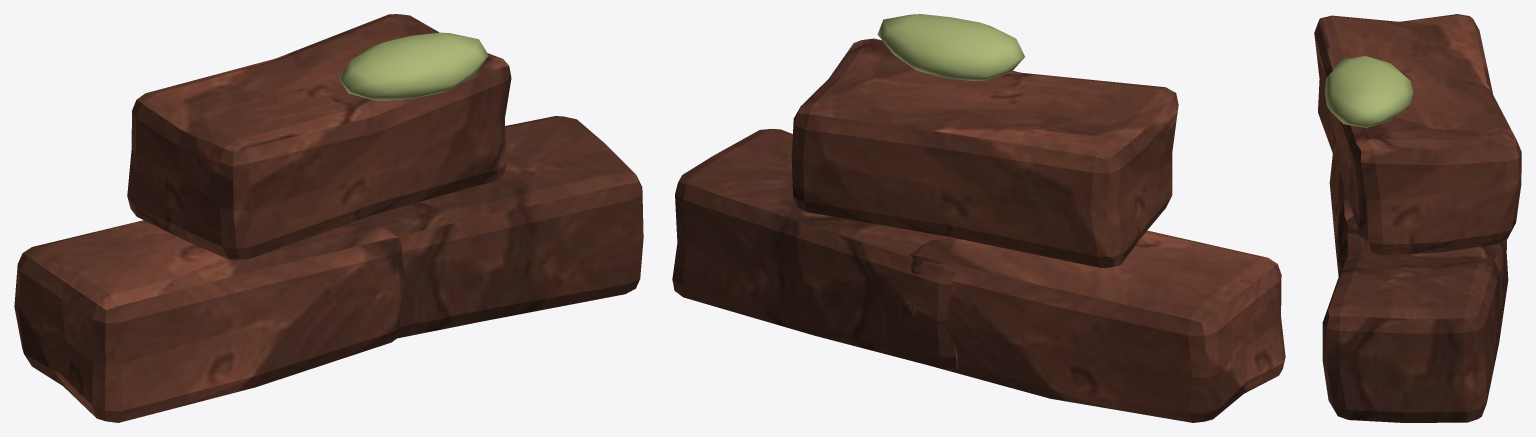
Rendered from ancient_brick.glb.
The picture shows the model from 3 angles, left to right: view 1: azimuth 30°, elevation 25°; view 2: azimuth 150°, elevation 25°; view 3: azimuth 270°, elevation 25°; orthographic projection. The views are drawn at different scales.
Visible parts, largest first — view 1: model; view 2: model; view 3: model.
Boxes of the visible parts, x1,y1,x2,y2 form: model: [14, 14, 643, 422]; model: [672, 14, 1285, 422]; model: [1314, 14, 1521, 422].
Size of the model in its own units: 0.3553 by 0.1791 by 0.1275.
Materials: 4 (3 with a texture image).
